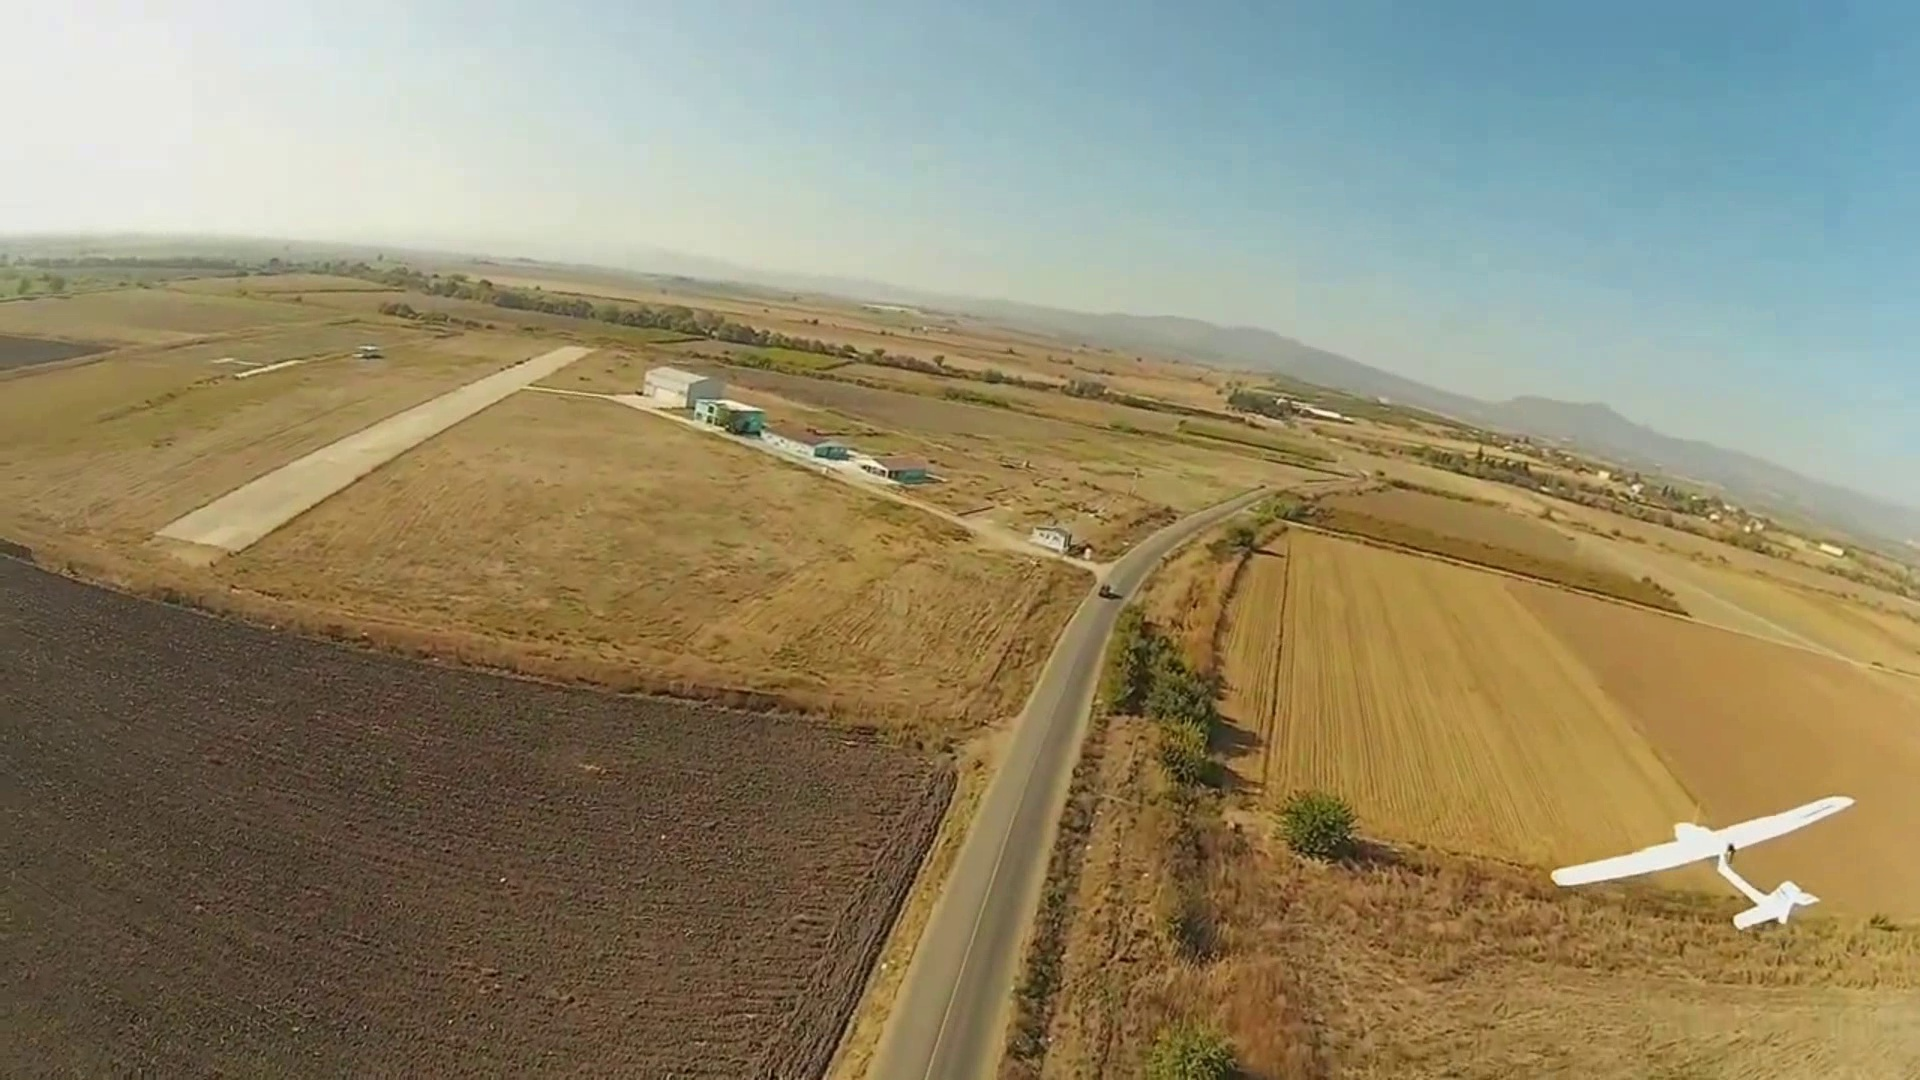airplane: (1550, 796, 1857, 934)
